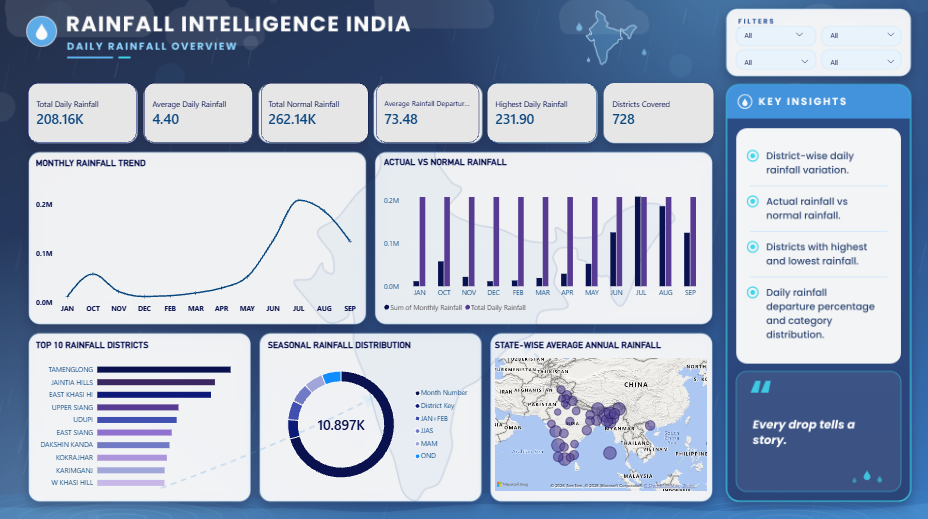

This screenshot's page, from the dashboard's own definition file:
{"tool":"powerbi","page":{"name":"Daily Rainfall","canvas":[1920,1080],"ordinal":0},"visuals":[{"type":"cardVisual","fields":{"Data":["Daily_Rainfall.Total Daily Rainfall"]},"box":[58.3,172.8,224.6,123.1],"z":0},{"type":"cardVisual","fields":{"Data":["Daily_Rainfall.Average Daily Rainfall"]},"box":[298.1,172.8,224.6,123.1],"z":1000},{"type":"cardVisual","fields":{"Data":["Daily_Rainfall.Total Normal Rainfall"]},"box":[537.8,172.8,222.5,123.1],"z":2000},{"type":"cardVisual","fields":{"Data":["Daily_Rainfall.Average Rainfall Departure %"]},"box":[775.4,172.8,213.8,123.1],"z":3000},{"type":"cardVisual","fields":{"Data":["Daily_Rainfall.Highest Daily Rainfall"]},"box":[1004.4,172.8,226.8,123.1],"z":4000},{"type":"cardVisual","fields":{"Data":["Daily_Rainfall.Districts Covered"]},"box":[1246.3,172.8,226.8,123.1],"z":5000},{"type":"slicer","fields":{"Values":["Daily_Rainfall.STATE/UT"]},"box":[1525,54,142.6,41],"z":6000},{"type":"slicer","fields":{"Values":["Daily_Rainfall.DISTRICT"]},"box":[1704.2,54,153.4,41],"z":7000},{"type":"slicer","fields":{"Values":["Daily_Rainfall.Month"]},"box":[1525,110.2,153.4,34.6],"z":8000},{"type":"slicer","fields":{"Values":["Daily_Rainfall (2).Season"]},"box":[1704.2,110.2,153.4,34.6],"z":9000},{"type":"lineChart","title":"MONTHLY RAINFALL TREND","fields":{"Category":["Daily_Rainfall.Month"],"Y":["Sum(Daily_Rainfall.Monthly Rainfall)"]},"box":[58.3,313.2,702,356.4],"z":10000},{"type":"map","title":"STATE-WISE AVERAGE ANNUAL RAINFALL","fields":{"Category":["Daily_Rainfall.STATE/UT"],"Size":["Daily_Rainfall.State Average Annual Rainfall"]},"box":[1005,690,470,342.5],"z":11000},{"type":"clusteredBarChart","title":"TOP 10 RAINFALL DISTRICTS","fields":{"Category":["Daily_Rainfall.DISTRICT"],"Y":["Daily_Rainfall.State Average Annual Rainfall"]},"box":[58,690.4,463.6,342.7],"z":12000},{"type":"donutChart","title":"SEASONAL RAINFALL DISTRIBUTION","fields":{"Category":["Daily_Rainfall (2).Season"],"Y":["CountNonNull(Daily_Rainfall (2).Seasonal Rainfall)"]},"box":[536.7,690.4,453.5,342.7],"z":13000},{"type":"clusteredColumnChart","title":"ACTUAL VS NORMAL RAINFALL","fields":{"Category":["Daily_Rainfall.Month"],"Y":["Sum(Daily_Rainfall.Monthly Rainfall)","Daily_Rainfall.Total Daily Rainfall"]},"box":[776.1,312.4,698,355.3],"z":14000}]}

Visuals, with their boxes in screenshot pixels (x1, y1, x2, y2), scaled from the page's 1920x1080 canvas onto the 928x519 screenshot:
cardVisual - Daily_Rainfall.Total Daily Rainfall: left=28, top=83, right=137, bottom=142
cardVisual - Daily_Rainfall.Average Daily Rainfall: left=144, top=83, right=253, bottom=142
cardVisual - Daily_Rainfall.Total Normal Rainfall: left=260, top=83, right=367, bottom=142
cardVisual - Daily_Rainfall.Average Rainfall Departure %: left=375, top=83, right=478, bottom=142
cardVisual - Daily_Rainfall.Highest Daily Rainfall: left=485, top=83, right=595, bottom=142
cardVisual - Daily_Rainfall.Districts Covered: left=602, top=83, right=712, bottom=142
slicer - Daily_Rainfall.STATE/UT: left=737, top=26, right=806, bottom=46
slicer - Daily_Rainfall.DISTRICT: left=824, top=26, right=898, bottom=46
slicer - Daily_Rainfall.Month: left=737, top=53, right=811, bottom=70
slicer - Daily_Rainfall (2).Season: left=824, top=53, right=898, bottom=70
"MONTHLY RAINFALL TREND" lineChart: left=28, top=151, right=367, bottom=322
"STATE-WISE AVERAGE ANNUAL RAINFALL" map: left=486, top=332, right=713, bottom=496
"TOP 10 RAINFALL DISTRICTS" clusteredBarChart: left=28, top=332, right=252, bottom=496
"SEASONAL RAINFALL DISTRIBUTION" donutChart: left=259, top=332, right=479, bottom=496
"ACTUAL VS NORMAL RAINFALL" clusteredColumnChart: left=375, top=150, right=712, bottom=321
